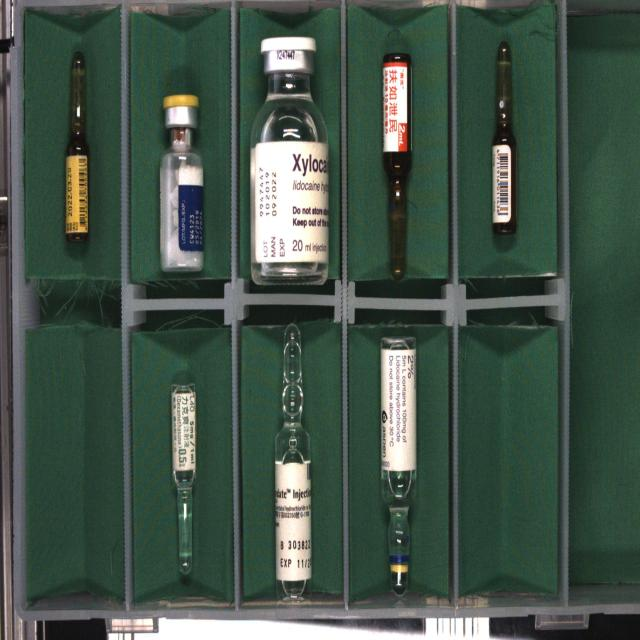Vials: (251, 37, 329, 284), (160, 95, 204, 271)
